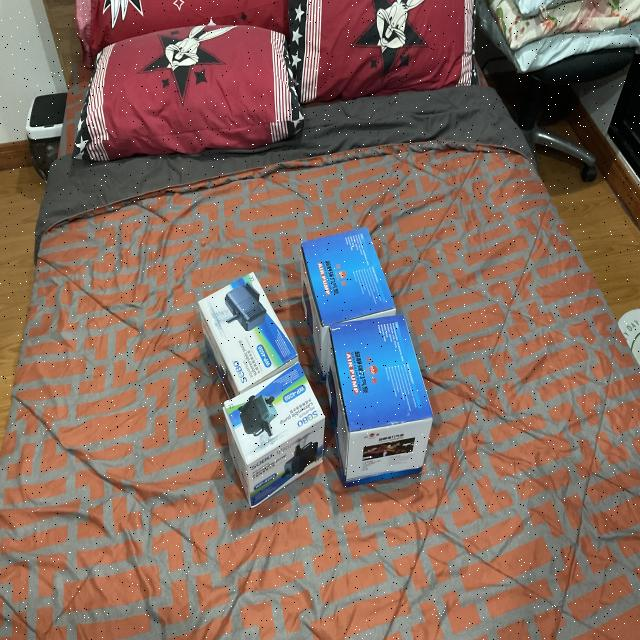SOBO_WP_4200: (218, 352, 330, 516), (186, 271, 302, 399)
YAMANO_LPP_20: (314, 308, 434, 506), (292, 218, 399, 381)
